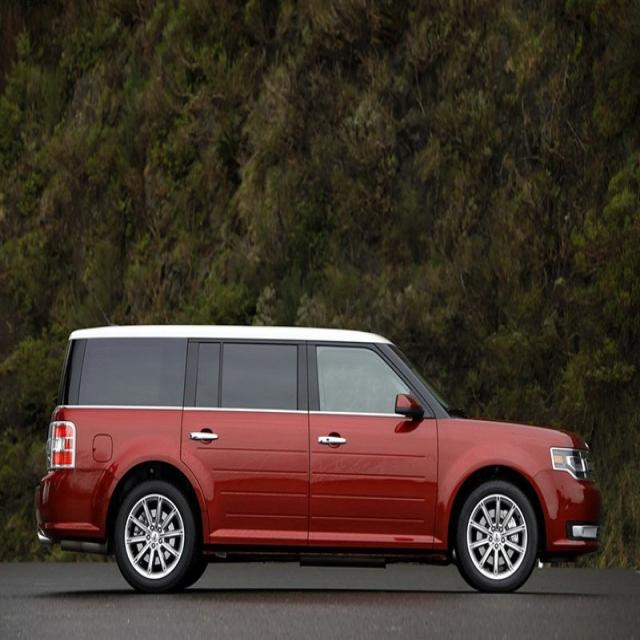back_right_side_light: (46, 420, 77, 468)
door: (182, 334, 319, 550)
front_bumper: (534, 470, 600, 553)
front_right_side_door: (305, 335, 439, 552)
front_right_side_light: (547, 440, 589, 481)
front_right_side_mirror: (393, 389, 419, 419)
rear_bumper: (34, 466, 117, 538)
wheel: (454, 480, 539, 592), (114, 479, 194, 587)
